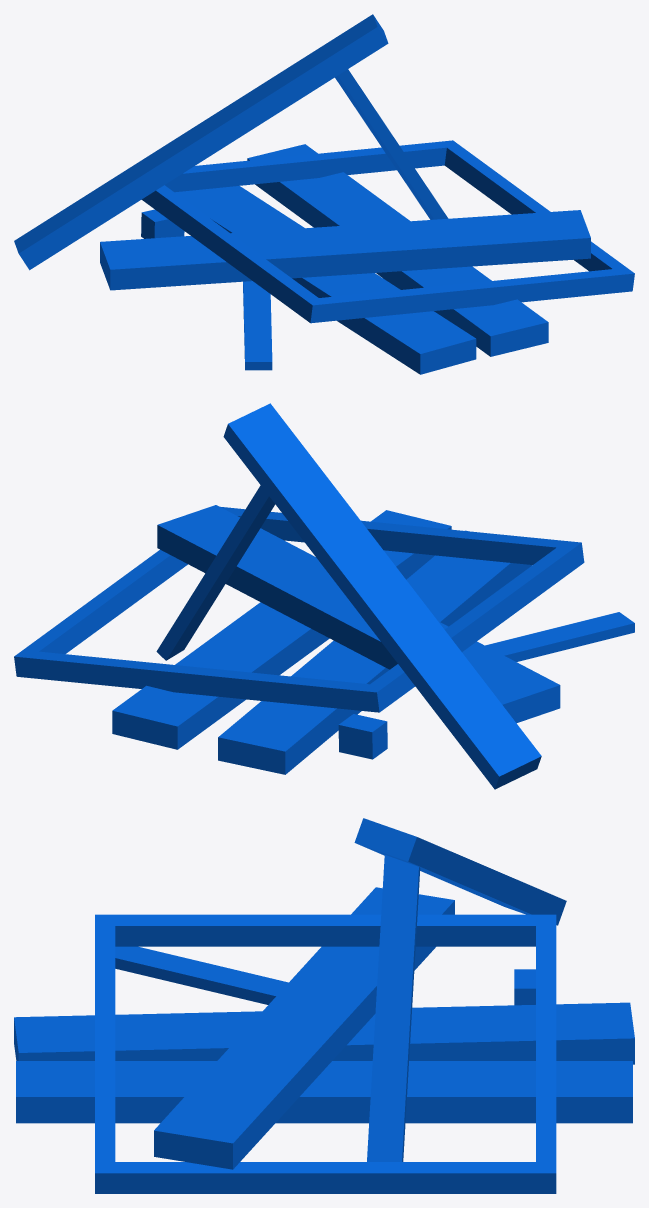
The model's file is Débris1.fbx.
The picture shows the model from 3 angles, top to bottom: view 1: azimuth 30°, elevation 25°; view 2: azimuth 150°, elevation 25°; view 3: azimuth 270°, elevation 25°; orthographic projection. The views are drawn at different scales.
Parts seen in each view (by area): view 1: Cube.581, Cube.562, Cube.564, Cube.560, Cube.561, Cube.565, Cube.563, Cube.580; view 2: Cube.564, Cube.581, Cube.562, Cube.561, Cube.560, Cube.565, Cube.563, Cube.580; view 3: Cube.581, Cube.560, Cube.562, Cube.561, Cube.565, Cube.564, Cube.563, Cube.580.
Boxes of the visible parts, x1=… form: Cube.581: x1=141, y1=140, x2=634, y2=323; Cube.562: x1=100, y1=210, x2=590, y2=290; Cube.564: x1=14, y1=14, x2=388, y2=270; Cube.560: x1=247, y1=144, x2=548, y2=356; Cube.561: x1=175, y1=186, x2=476, y2=374; Cube.565: x1=335, y1=69, x2=448, y2=219; Cube.563: x1=243, y1=281, x2=272, y2=370; Cube.580: x1=141, y1=209, x2=184, y2=238; Cube.564: x1=223, y1=403, x2=541, y2=789; Cube.581: x1=14, y1=506, x2=584, y2=712; Cube.562: x1=157, y1=505, x2=560, y2=723; Cube.561: x1=218, y1=530, x2=532, y2=774; Cube.560: x1=112, y1=510, x2=451, y2=749; Cube.565: x1=156, y1=485, x2=275, y2=660; Cube.563: x1=485, y1=612, x2=634, y2=661; Cube.580: x1=338, y1=714, x2=387, y2=759; Cube.581: x1=95, y1=914, x2=556, y2=1193; Cube.560: x1=16, y1=1061, x2=632, y2=1123; Cube.562: x1=154, y1=887, x2=454, y2=1169; Cube.561: x1=14, y1=1002, x2=634, y2=1064; Cube.565: x1=367, y1=855, x2=420, y2=1161; Cube.564: x1=354, y1=818, x2=566, y2=925; Cube.563: x1=115, y1=946, x2=288, y2=1004; Cube.580: x1=514, y1=969, x2=535, y2=1005.
Bounding box in the file's own units: 105 × 52.35 × 98.4.
